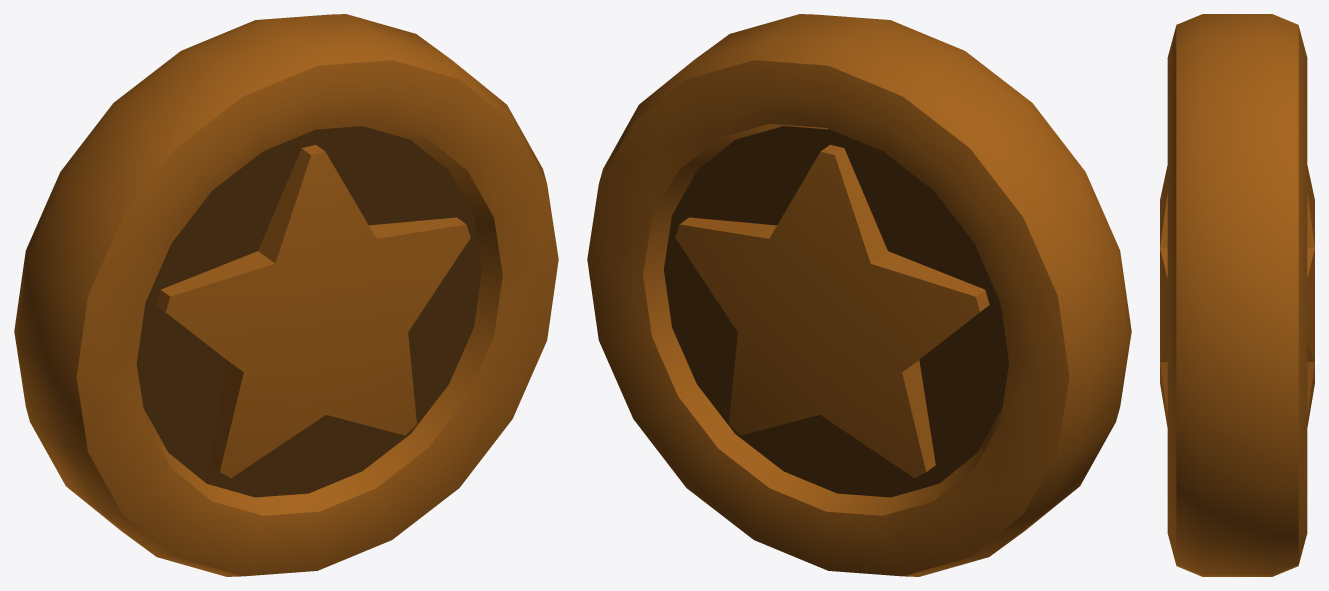
Rendered from Coin.obj.
3 views of the same model, side by side, from view 1: azimuth 30°, elevation 25°; view 2: azimuth 150°, elevation 25°; view 3: azimuth 270°, elevation 25° (orthographic). The views are drawn at different scales.
Parts seen in each view (by area): view 1: Coin_Cylinder.012; view 2: Coin_Cylinder.012; view 3: Coin_Cylinder.012.
Part boxes in pixels (x1,y1,x2,y2): Coin_Cylinder.012: [14, 14, 558, 576]; Coin_Cylinder.012: [587, 14, 1131, 576]; Coin_Cylinder.012: [1160, 14, 1314, 576].
Size of the model in its own units: 1.92 by 1.92 by 0.5234.
